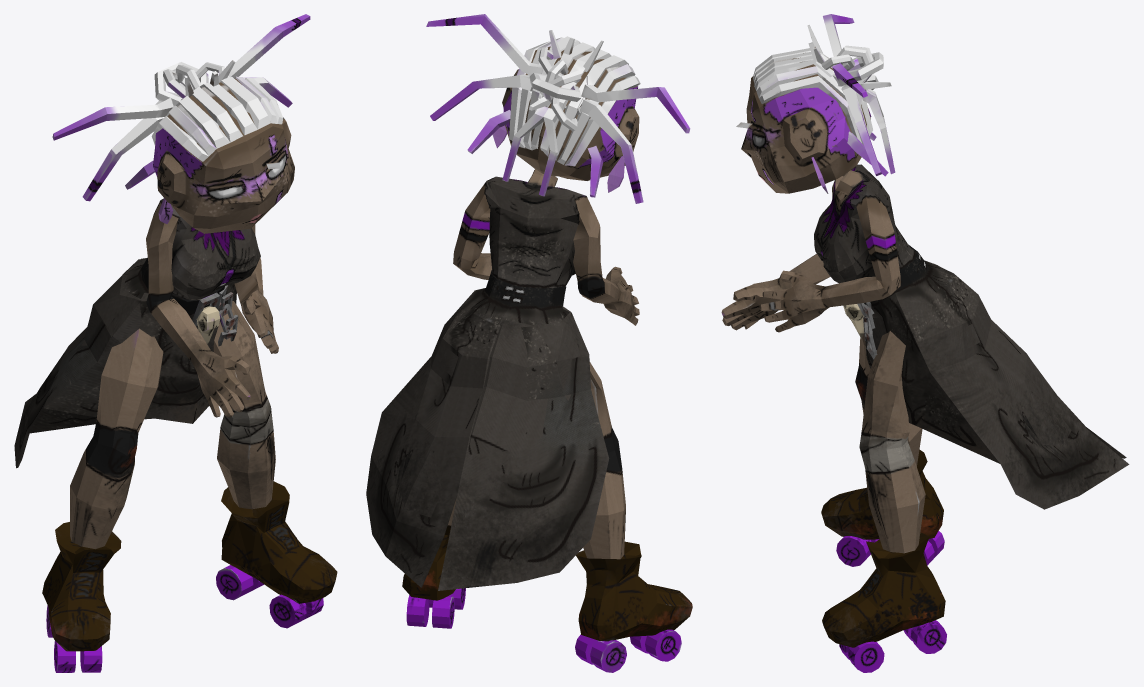
Rendered from bruja_000032.obj.
The picture shows the model from 3 angles, left to right: view 1: azimuth 30°, elevation 25°; view 2: azimuth 150°, elevation 25°; view 3: azimuth 270°, elevation 25°; orthographic projection. The views are drawn at different scales.
Parts seen in each view (by area): view 1: Bruja_Plane.001; view 2: Bruja_Plane.001; view 3: Bruja_Plane.001.
Boxes of the visible parts, bbox=[...] form: Bruja_Plane.001: bbox=[14, 14, 337, 672]; Bruja_Plane.001: bbox=[366, 14, 692, 672]; Bruja_Plane.001: bbox=[721, 14, 1129, 672].
Bounding box in the file's own units: 7.82 × 16.21 × 10.23.
